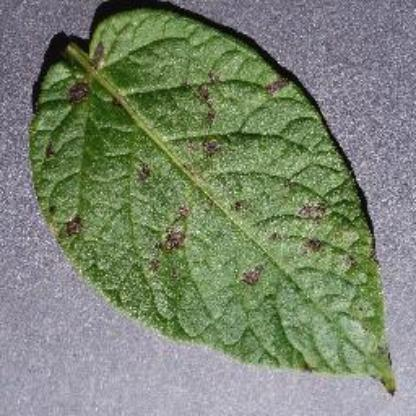Early-Blight: (23, 3, 415, 402)
